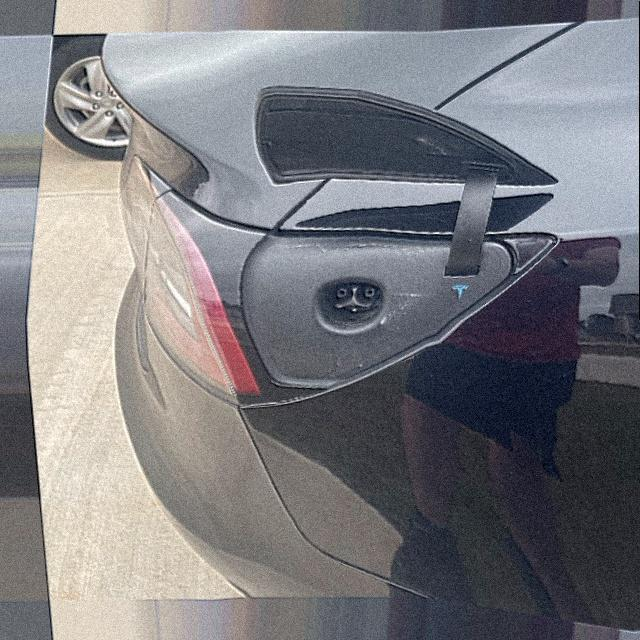Tesla Model-S-: (300, 273, 395, 337)
